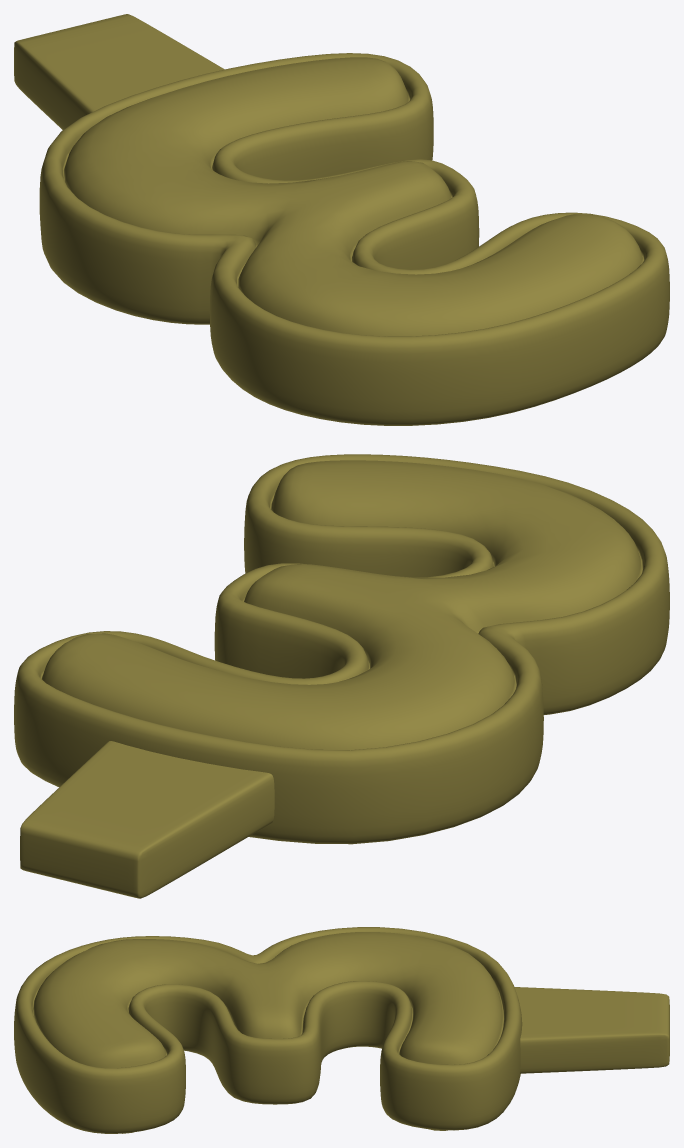
3 renders of one model, top to bottom at view 1: azimuth 30°, elevation 25°; view 2: azimuth 150°, elevation 25°; view 3: azimuth 270°, elevation 25°, orthographic. The views are drawn at different scales.
Parts seen in each view (by area): view 1: _Number_3_v1:_Number_3_v1; view 2: _Number_3_v1:_Number_3_v1; view 3: _Number_3_v1:_Number_3_v1.
Part boxes in pixels (<box>): _Number_3_v1:_Number_3_v1: <box>14,14,669,425</box>; _Number_3_v1:_Number_3_v1: <box>14,454,669,898</box>; _Number_3_v1:_Number_3_v1: <box>14,927,669,1133</box>.
Bounding box in the file's own units: 7.17 × 2 × 13.27.
